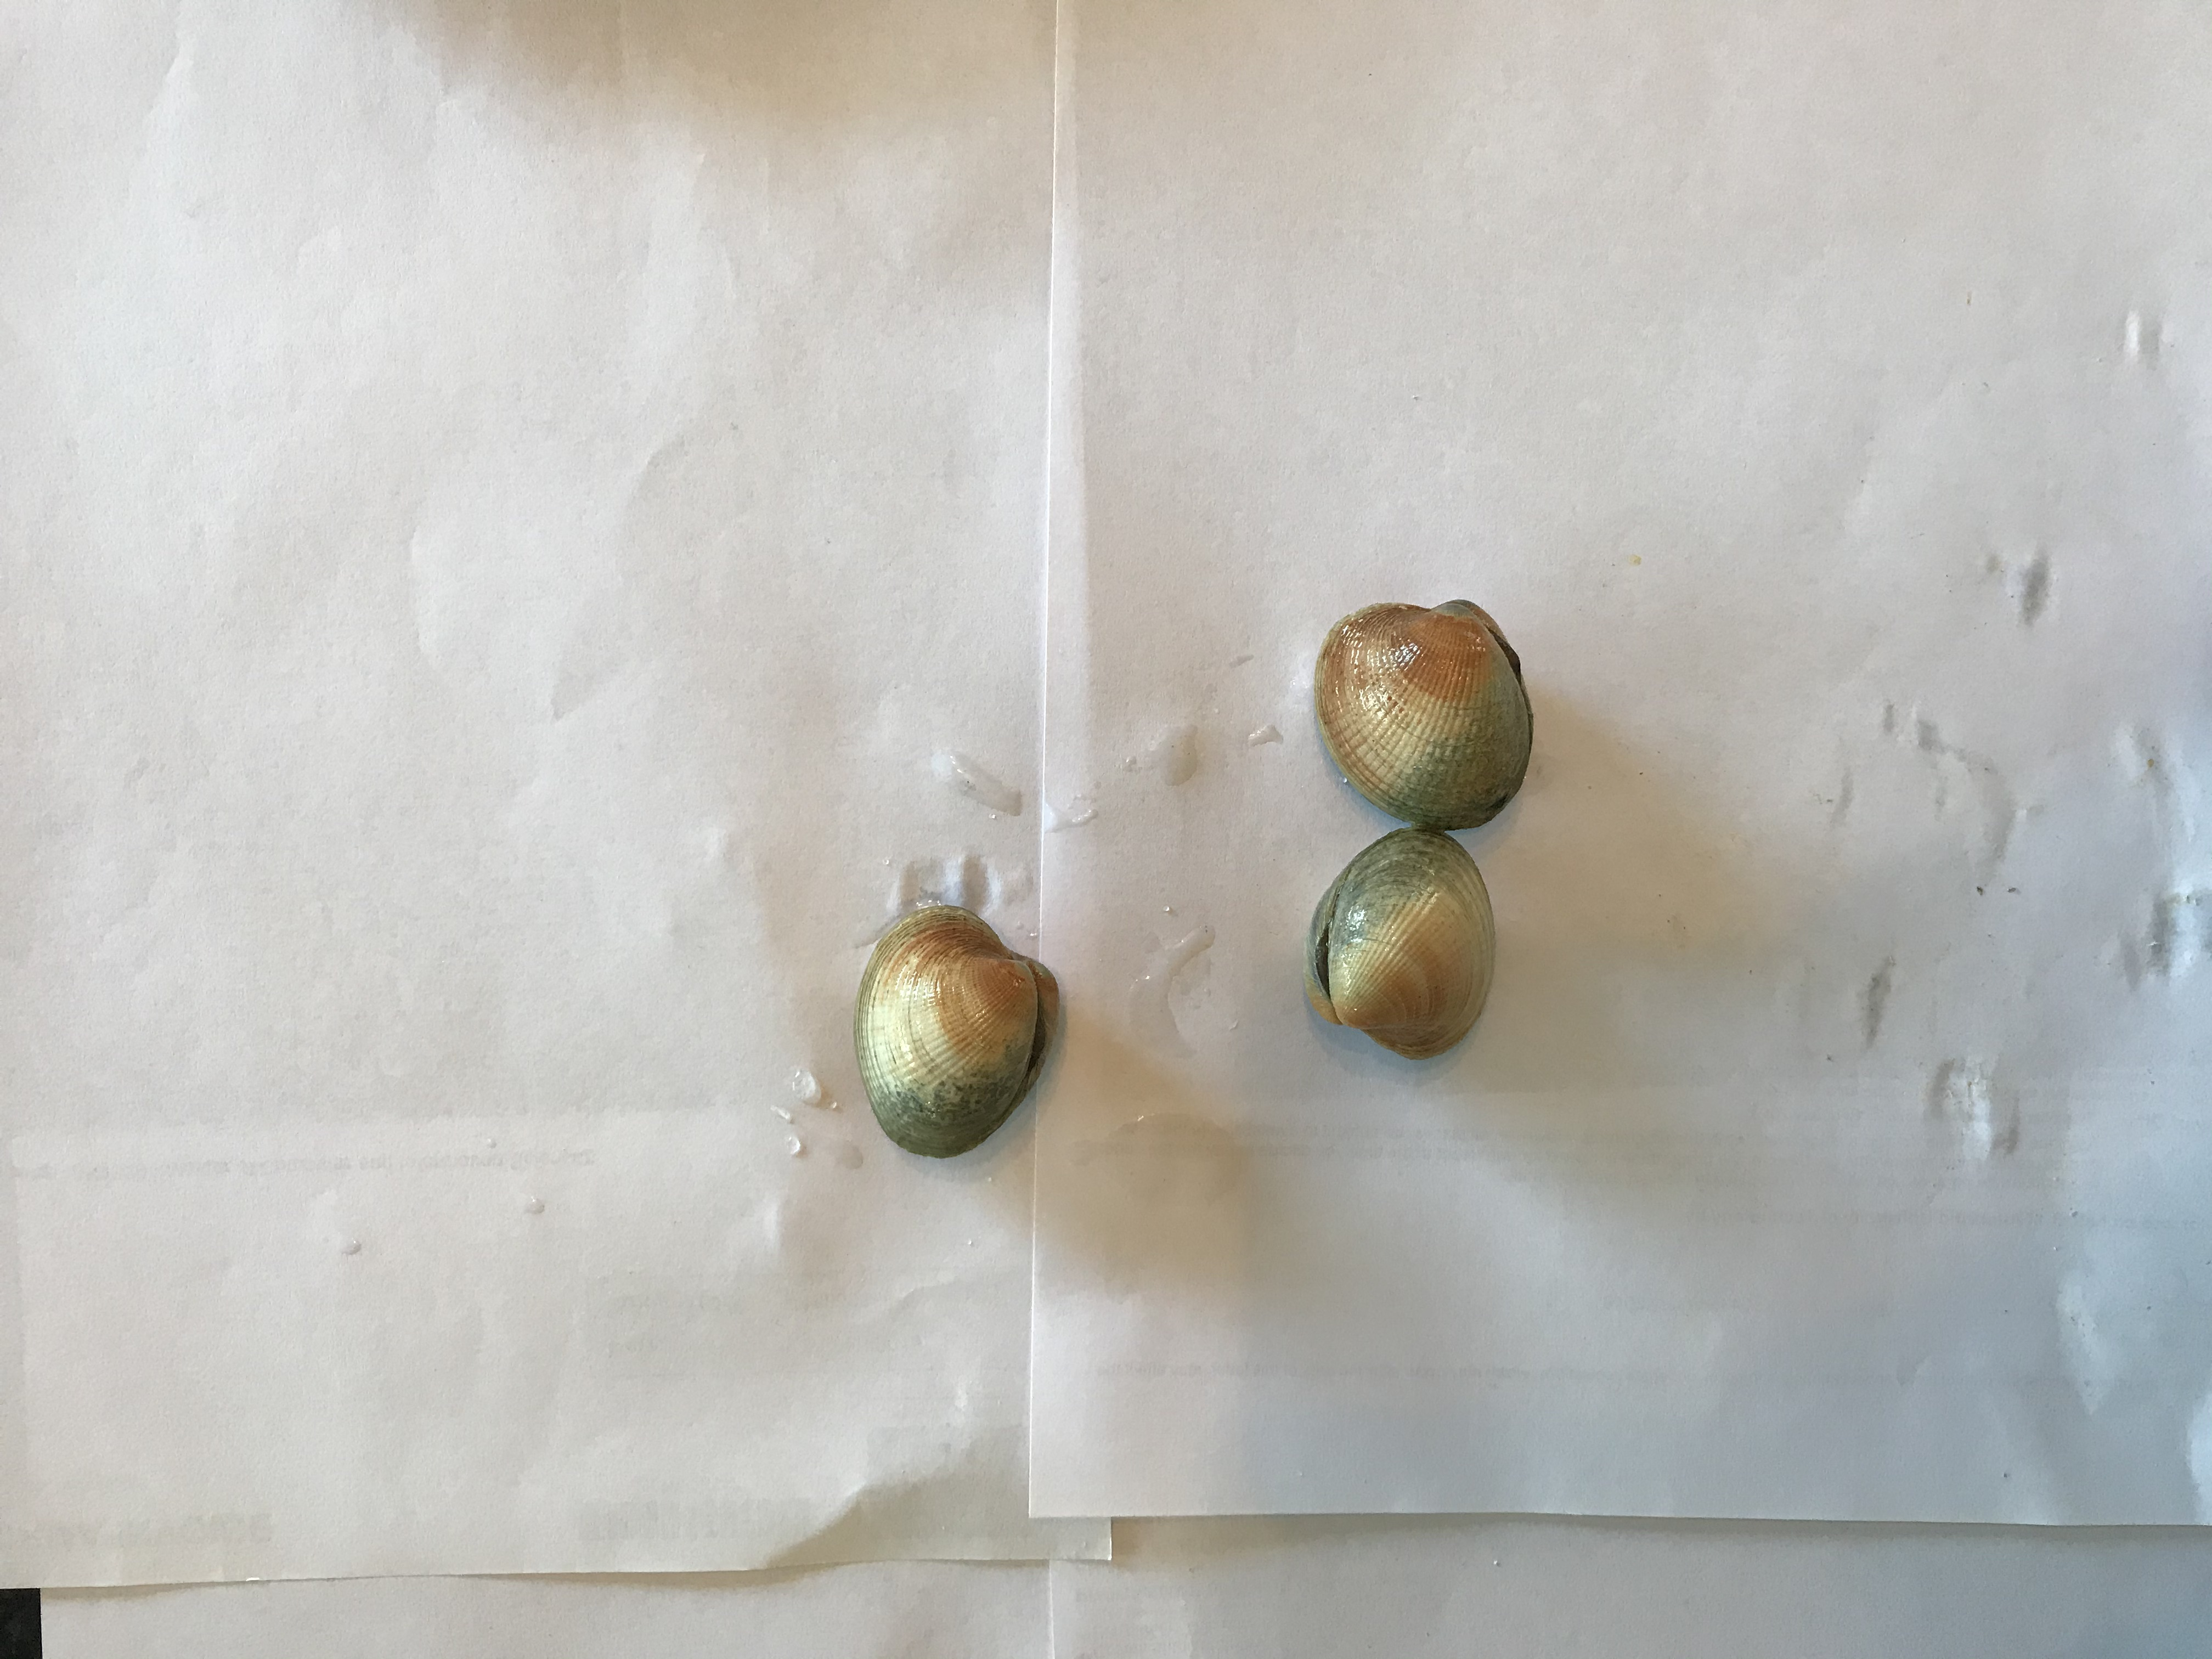cockle: (850, 899, 1064, 1166), (1312, 596, 1540, 836), (1296, 819, 1500, 1065)
